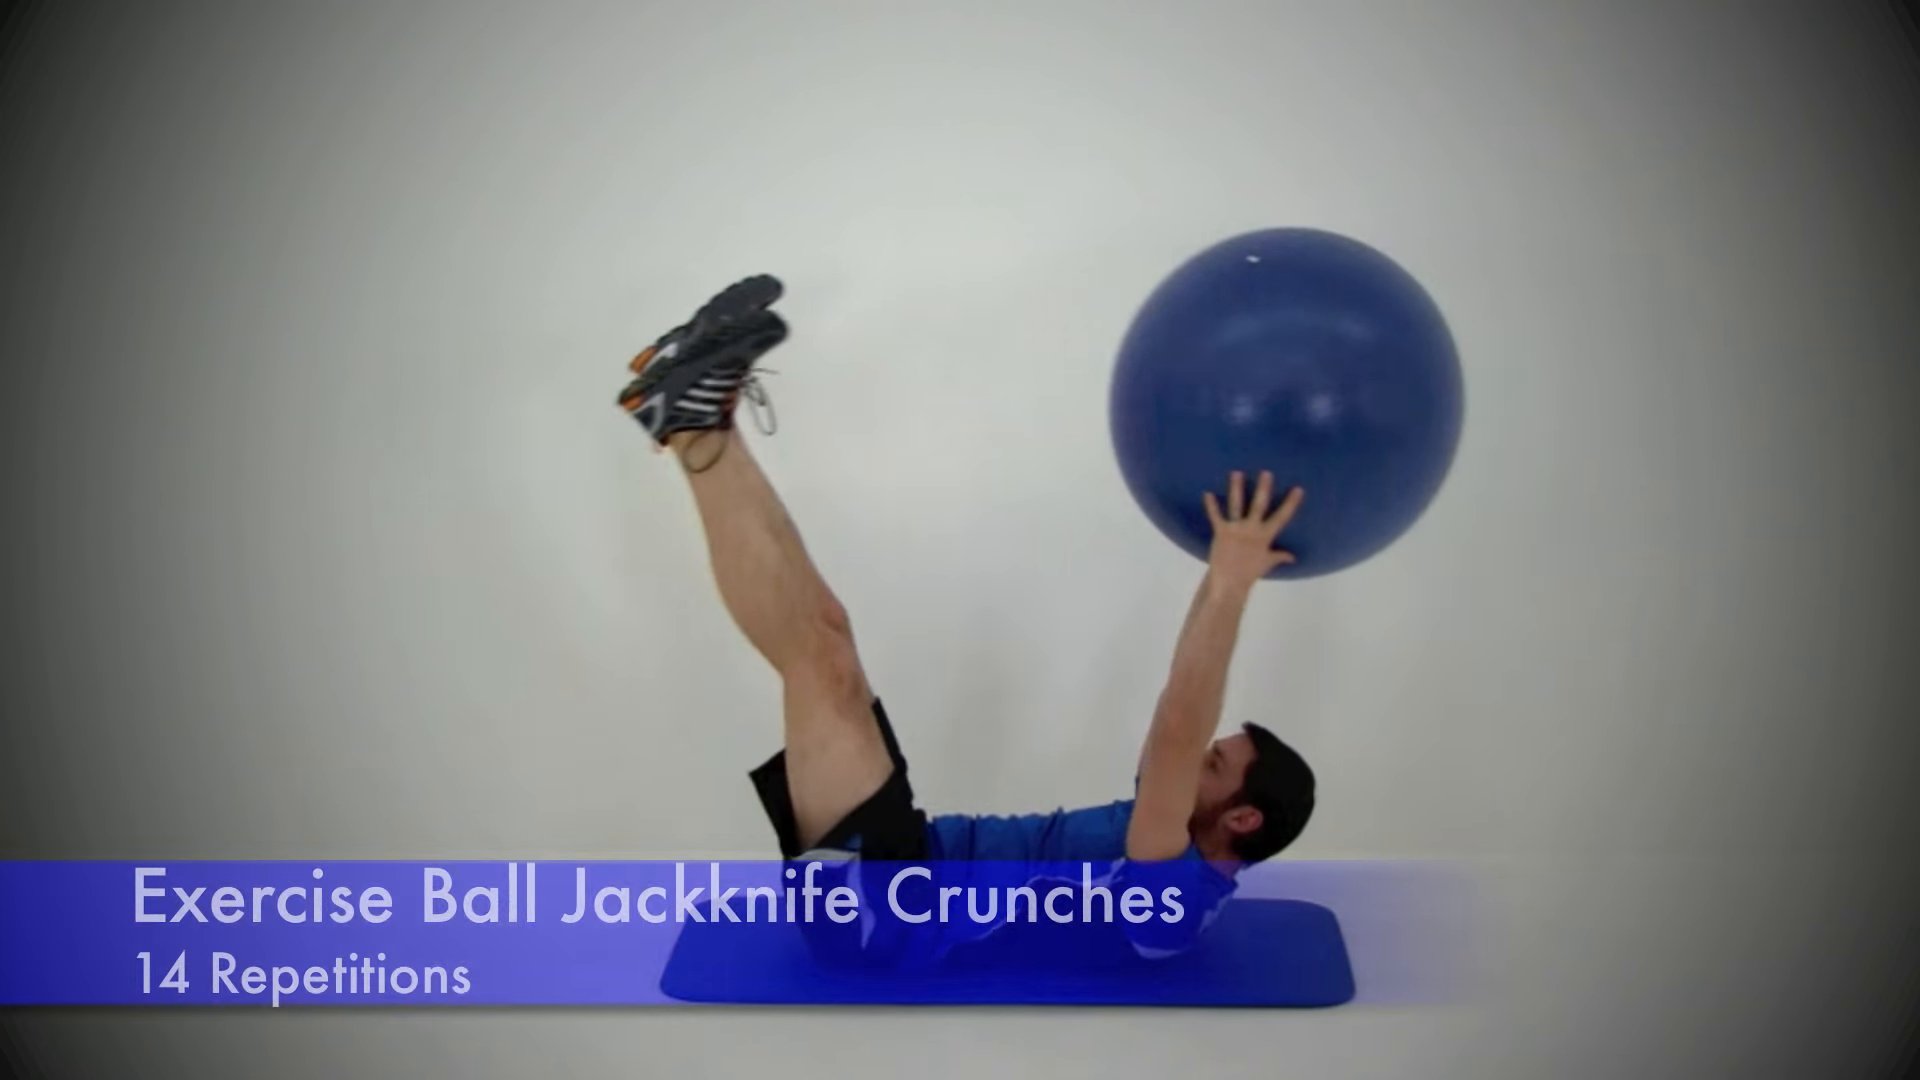yogaball: (1098, 214, 1476, 591)
